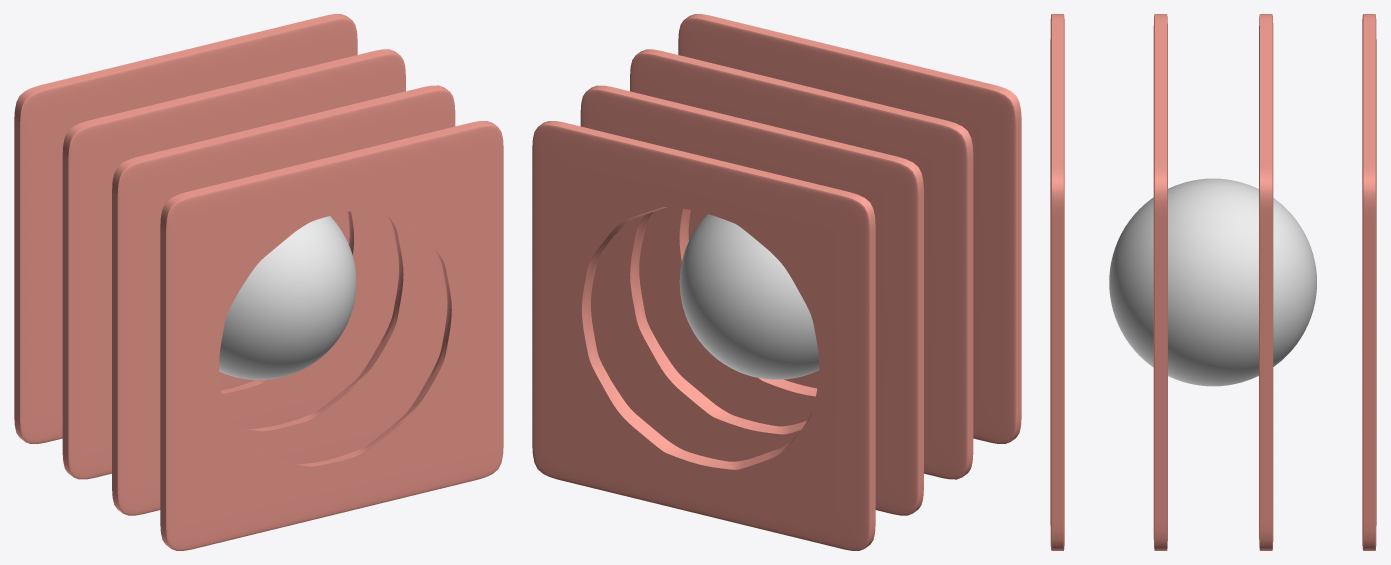
The picture shows the model from 3 angles, left to right: view 1: azimuth 30°, elevation 25°; view 2: azimuth 150°, elevation 25°; view 3: azimuth 270°, elevation 25°; orthographic projection. The views are drawn at different scales.
Parts seen in each view (by area): view 1: Subdivision Surface, Subdivision Surface.1, Subdivision Surface.2, Subdivision Surface.3, Sphere; view 2: Subdivision Surface.3, Subdivision Surface.2, Subdivision Surface.1, Subdivision Surface, Sphere; view 3: Sphere, Subdivision Surface.3, Subdivision Surface, Subdivision Surface.2, Subdivision Surface.1.
Part boxes in pixels (box(x1,y1,x2,y2)): Subdivision Surface: box(160, 121, 503, 550); Subdivision Surface.1: box(112, 85, 455, 515); Subdivision Surface.2: box(62, 49, 405, 479); Subdivision Surface.3: box(14, 14, 357, 443); Sphere: box(219, 216, 356, 379); Subdivision Surface.3: box(532, 121, 875, 550); Subdivision Surface.2: box(580, 85, 923, 515); Subdivision Surface.1: box(630, 49, 973, 479); Subdivision Surface: box(678, 14, 1021, 443); Sphere: box(679, 214, 819, 379); Sphere: box(1109, 178, 1316, 386); Subdivision Surface.3: box(1362, 14, 1376, 550); Subdivision Surface: box(1050, 14, 1064, 550); Subdivision Surface.2: box(1259, 14, 1273, 550); Subdivision Surface.1: box(1153, 14, 1167, 550).
Size of the model in its own units: 200 by 200 by 157.
